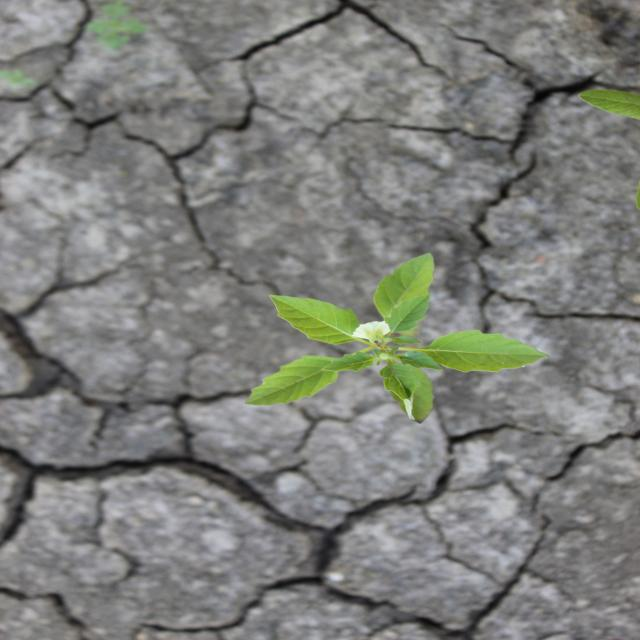CutleafGroundcherry: (239, 250, 555, 427)
